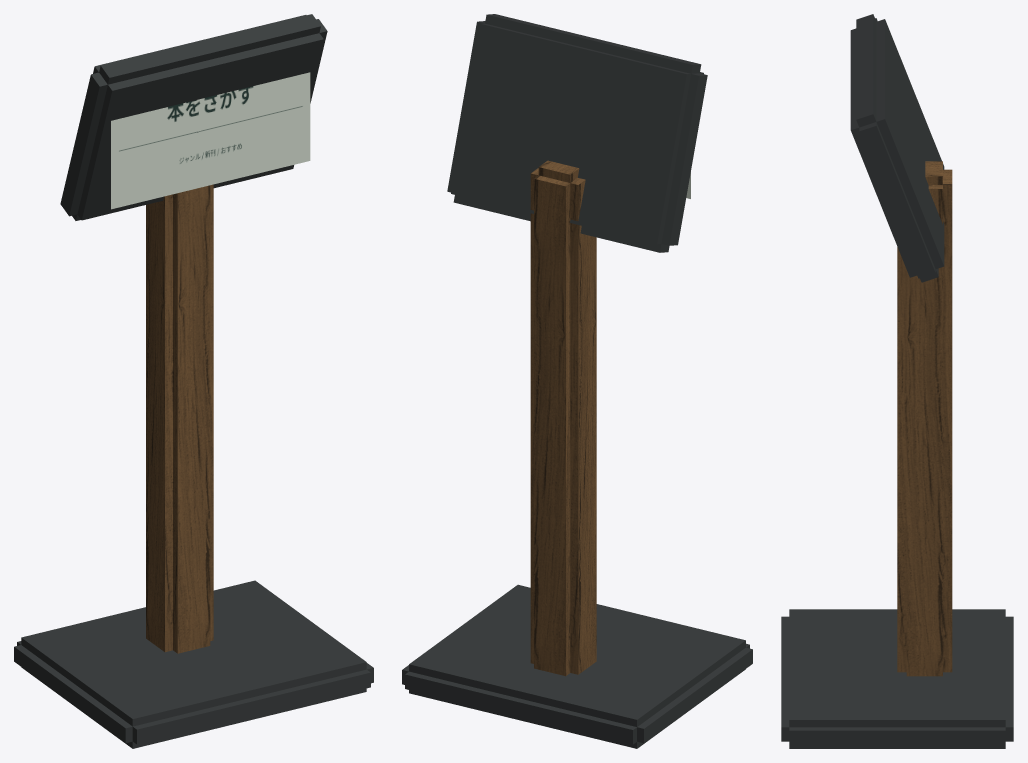
The model's file is fixture_v25_book_terminal.glb.
The picture shows the model from 3 angles, left to right: view 1: azimuth 30°, elevation 25°; view 2: azimuth 150°, elevation 25°; view 3: azimuth 270°, elevation 25°; orthographic projection. The views are drawn at different scales.
Parts seen in each view (by area): view 1: fixture_v25_book_terminal_Anodised_graphite, fixture_v25_book_terminal_CC0_Oak_veneer, fixture_v25_book_terminal_book-search; view 2: fixture_v25_book_terminal_Anodised_graphite, fixture_v25_book_terminal_CC0_Oak_veneer; view 3: fixture_v25_book_terminal_Anodised_graphite, fixture_v25_book_terminal_CC0_Oak_veneer.
Part boxes in pixels (left/top/right/bottom): fixture_v25_book_terminal_Anodised_graphite: left=14, top=14, right=373, bottom=748; fixture_v25_book_terminal_CC0_Oak_veneer: left=146, top=184, right=213, bottom=653; fixture_v25_book_terminal_book-search: left=111, top=72, right=310, bottom=209; fixture_v25_book_terminal_Anodised_graphite: left=402, top=14, right=752, bottom=748; fixture_v25_book_terminal_CC0_Oak_veneer: left=530, top=160, right=596, bottom=676; fixture_v25_book_terminal_Anodised_graphite: left=781, top=14, right=1013, bottom=748; fixture_v25_book_terminal_CC0_Oak_veneer: left=897, top=161, right=952, bottom=676.
Size of the model in its own units: 0.61 by 1.52 by 0.51.
3 materials, 2 textured.
